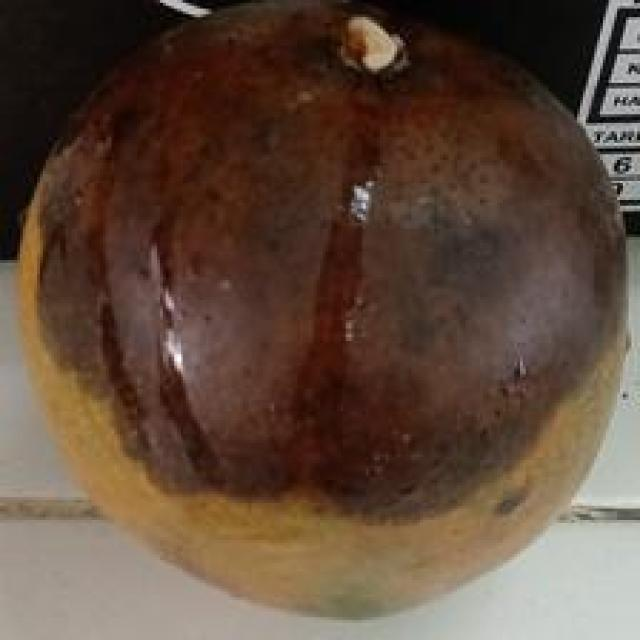Bad_Mango: (25, 5, 622, 616)
